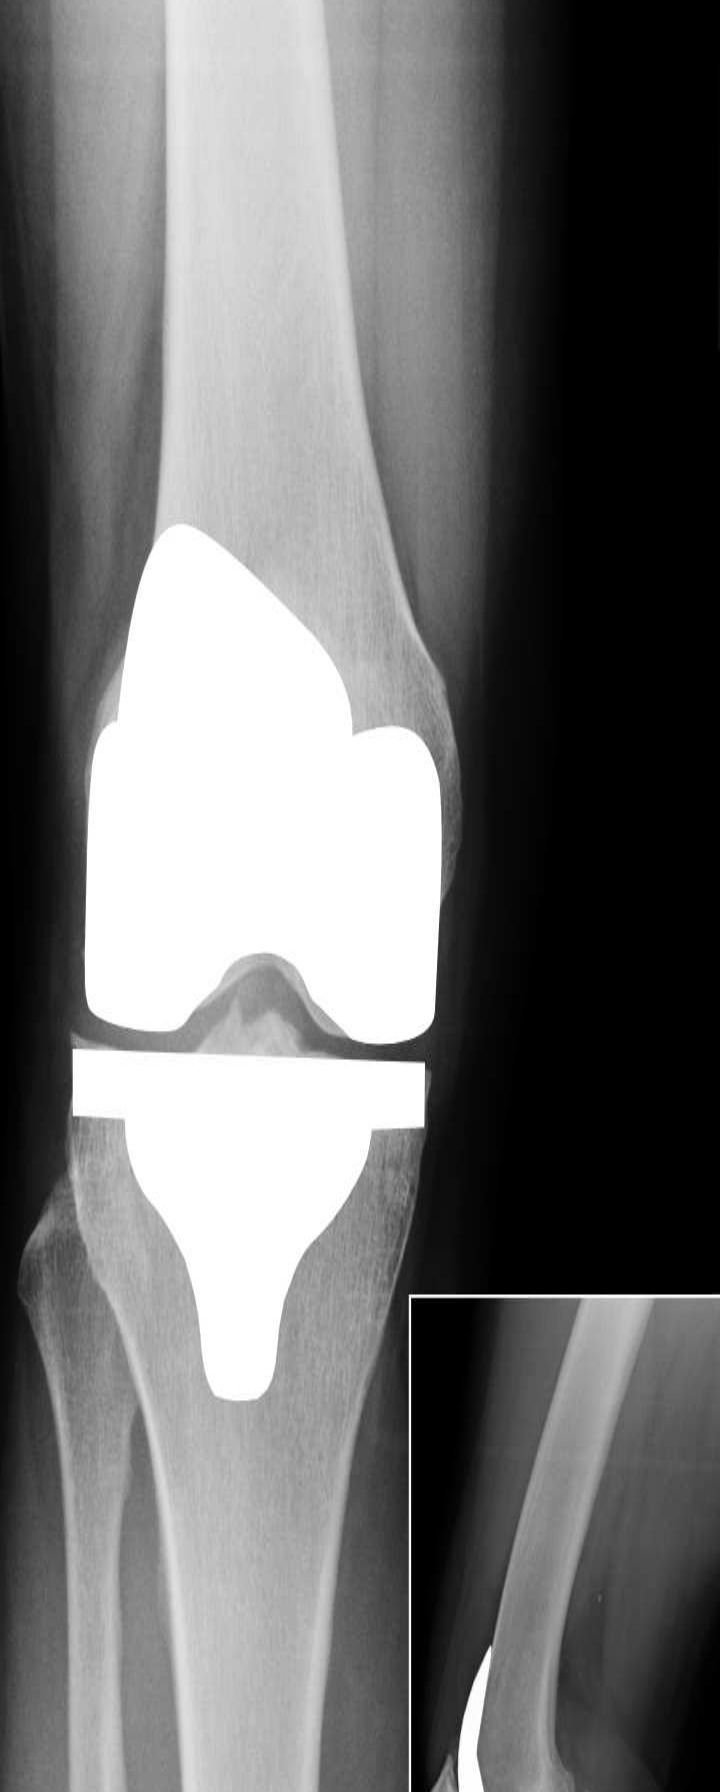Knee-Triathlon-Stryker: (73, 517, 449, 1411), (451, 1638, 513, 1792)
